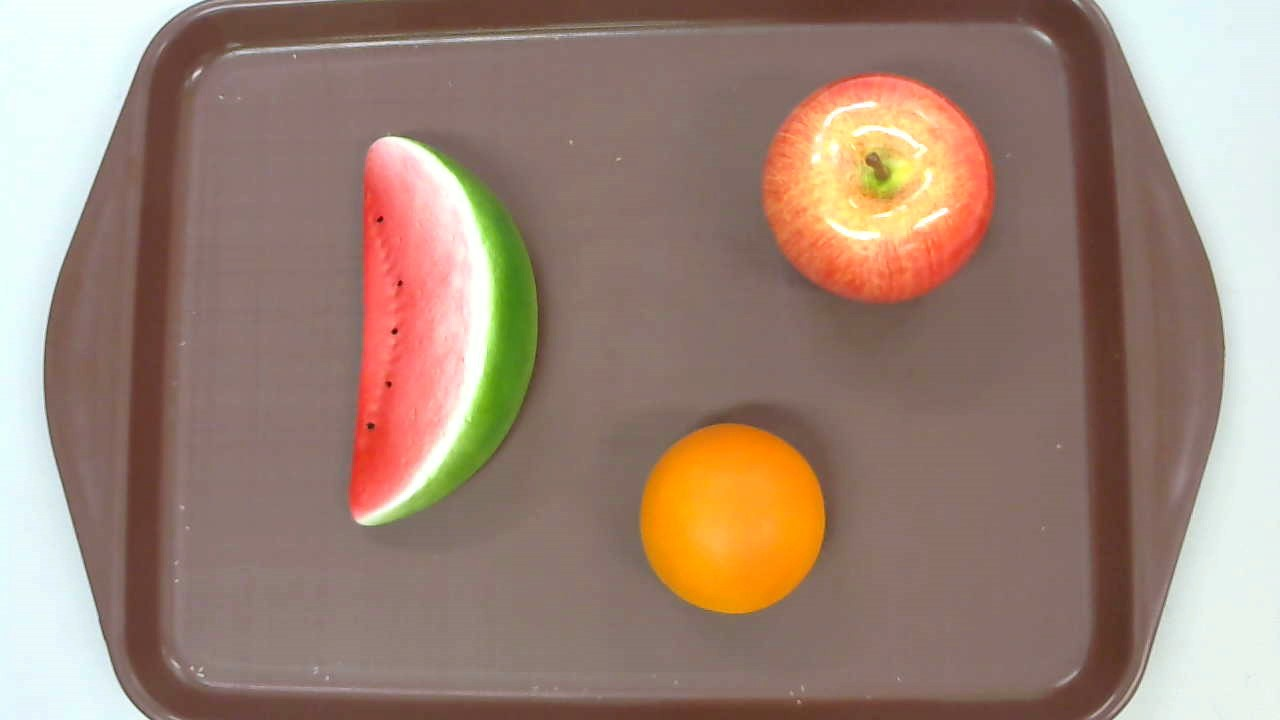bun: (638, 423, 824, 615)
red apple: (760, 73, 997, 307)
water melon: (346, 136, 539, 529)
